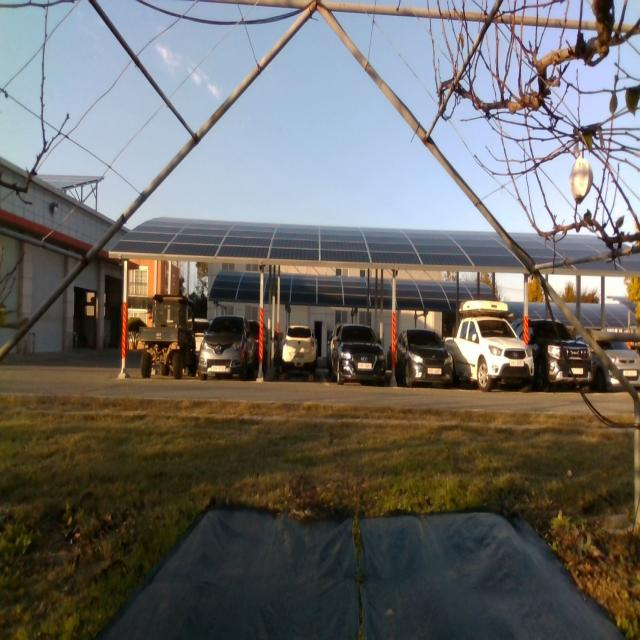pearbags: (570, 156, 593, 204)
